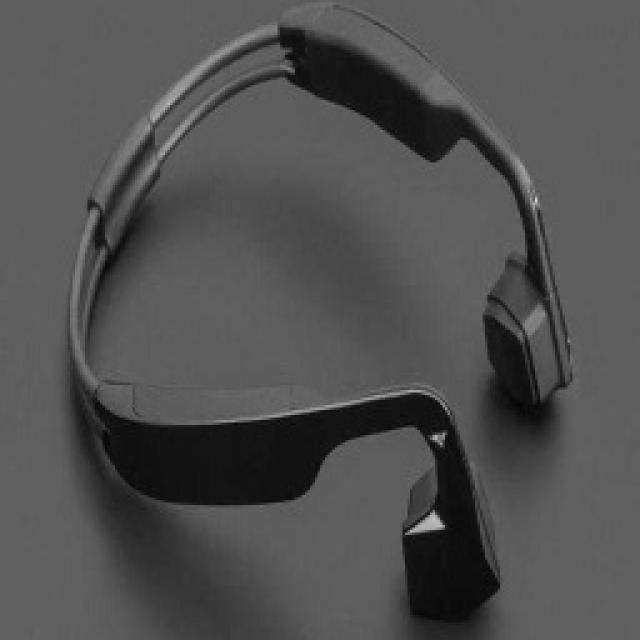headphones: (63, 0, 575, 620)
